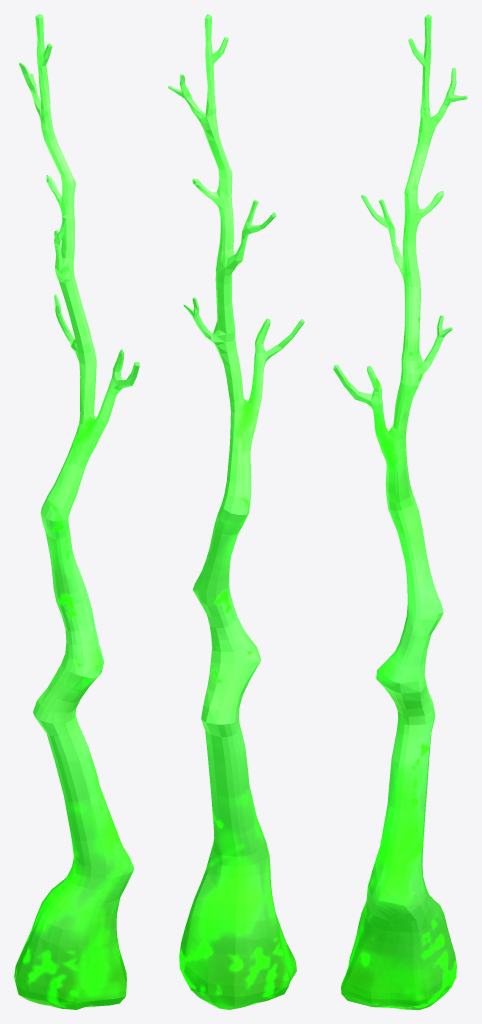
Rendered from DBirchB.fbx.
The picture shows the model from 3 angles, left to right: view 1: azimuth 90°, elevation 25°; view 2: azimuth 150°, elevation 25°; view 3: azimuth 330°, elevation 25°; orthographic projection.
Parts seen in each view (by area): view 1: Dn_EN_Tree_Birch_B.mo; view 2: Dn_EN_Tree_Birch_B.mo; view 3: Dn_EN_Tree_Birch_B.mo.
Boxes of the visible parts, x1,y1,x2,y2 form: Dn_EN_Tree_Birch_B.mo: (14, 14, 139, 1009); Dn_EN_Tree_Birch_B.mo: (168, 14, 304, 1009); Dn_EN_Tree_Birch_B.mo: (333, 14, 467, 1009).
Size of the model in its own units: 121 by 1168 by 136.
